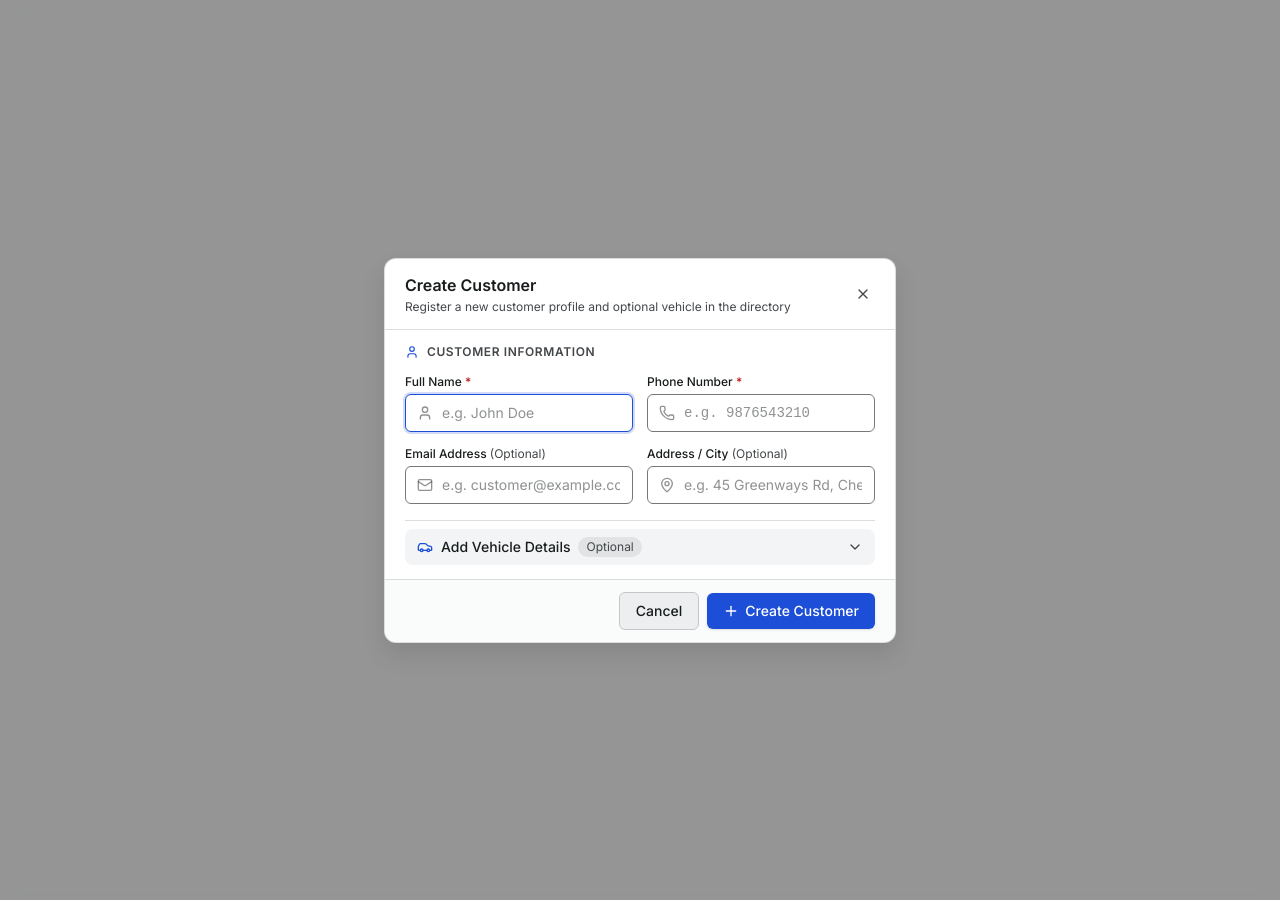
Test: CreateCustomerModal Component › validates email format if email is provided
Type "Jane Doe" into the field with placeholder "e.g. John Doe".
click(519, 412); type("Jane Doe")  # box [405,394,633,432]
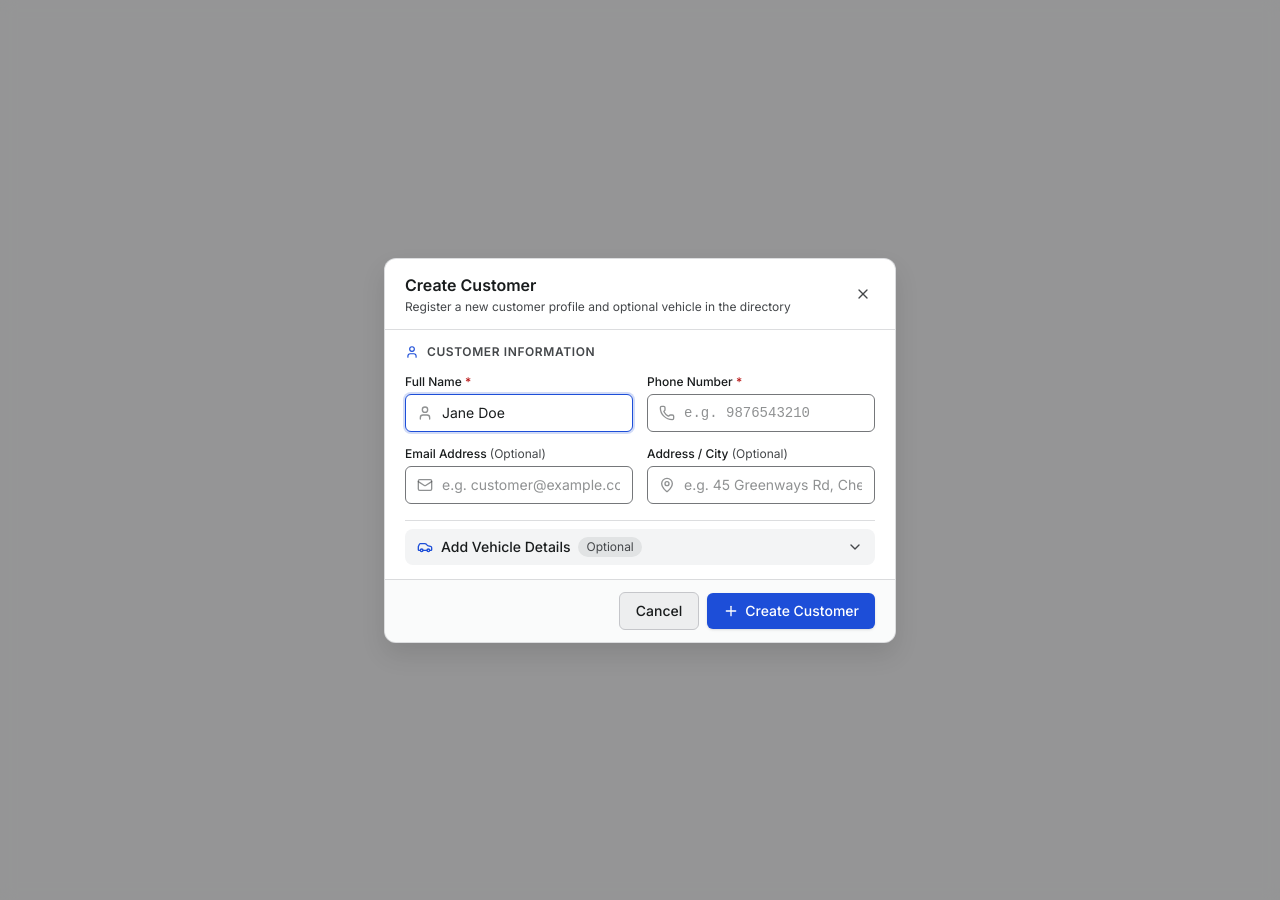
Type "9876543210" into the field with placeholder "e.g. 9876543210".
click(761, 412); type("9876543210")  # box [647,394,875,432]
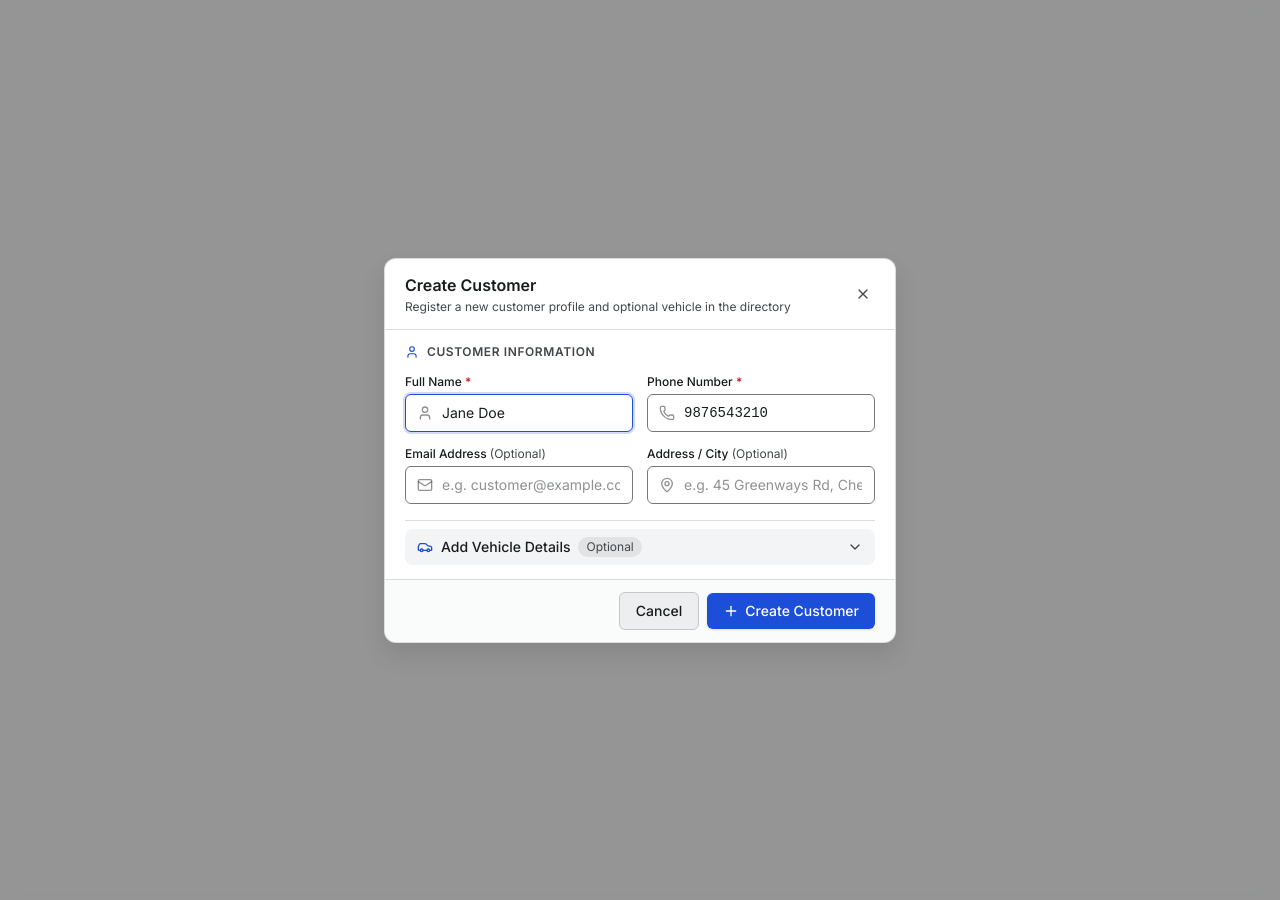
Type "invalid-email" into the field with placeholder "e.g. customer@example.com".
click(519, 484); type("invalid-email")  # box [405,466,633,504]
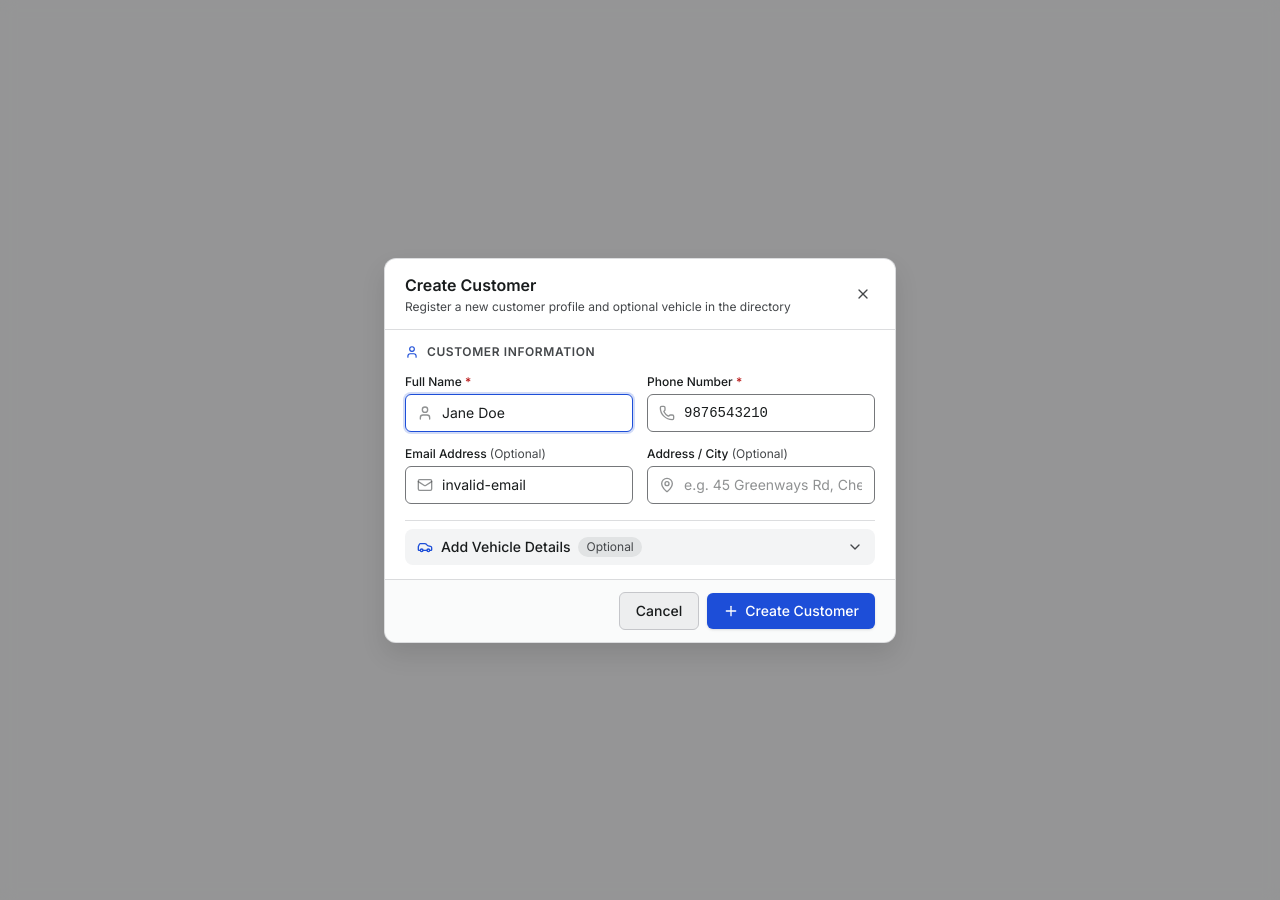
Click the button "Create Customer".
click(791, 610)  # box [707,592,875,628]
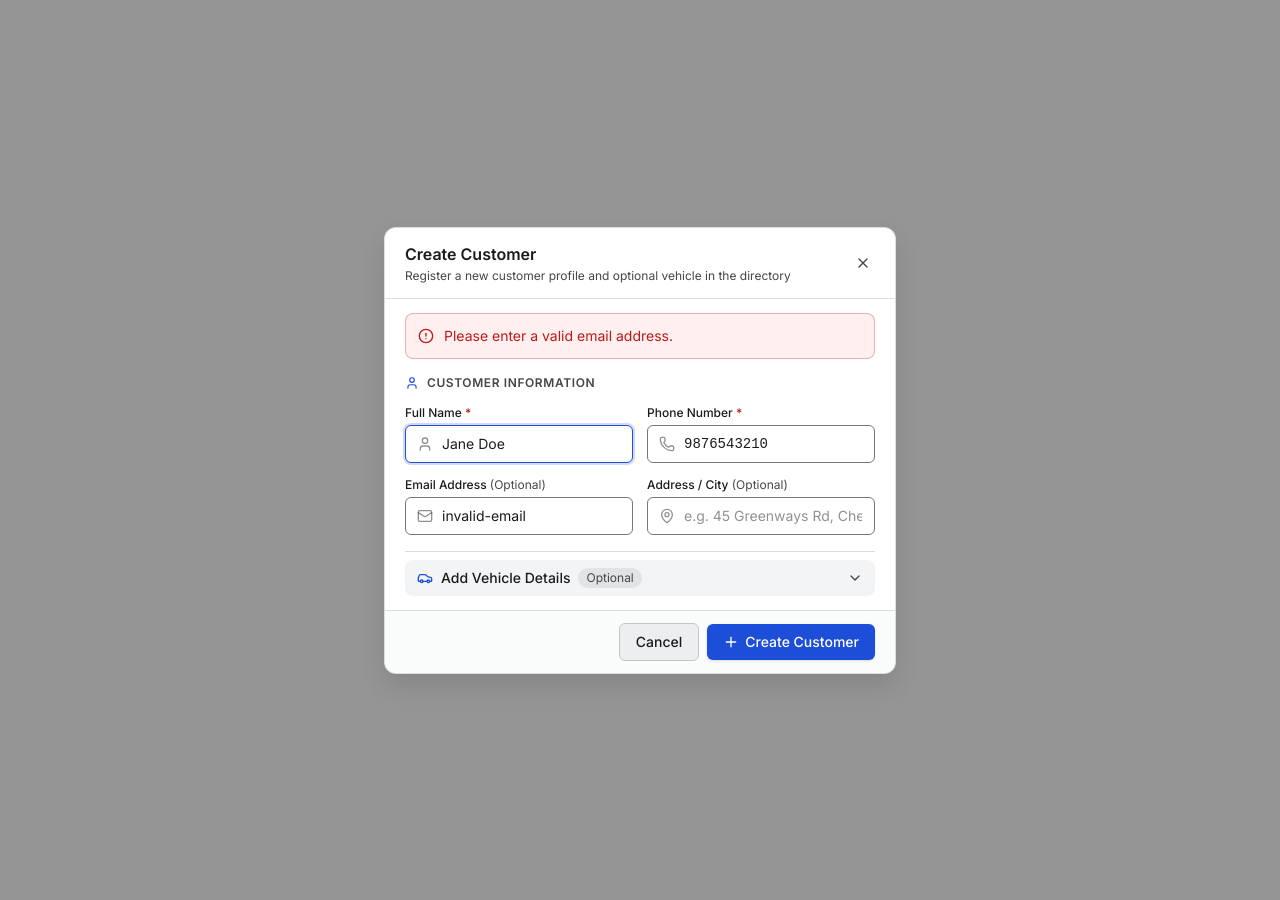
Expected: the text "Please enter a valid email address." is shown, [444,326,673,346]
